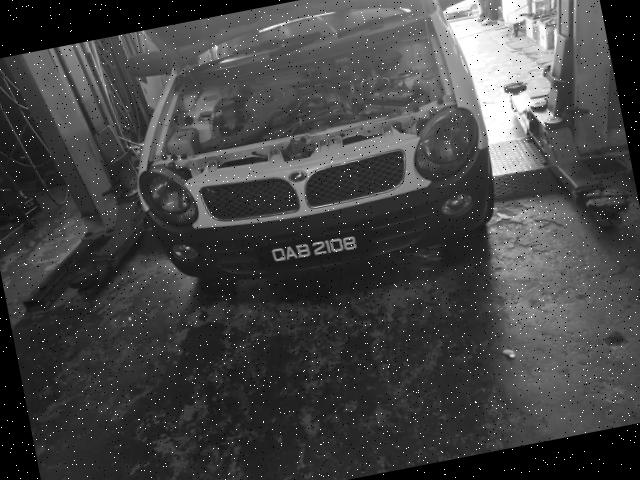License_Plate: (255, 223, 376, 278)
car: (118, 1, 515, 307)
